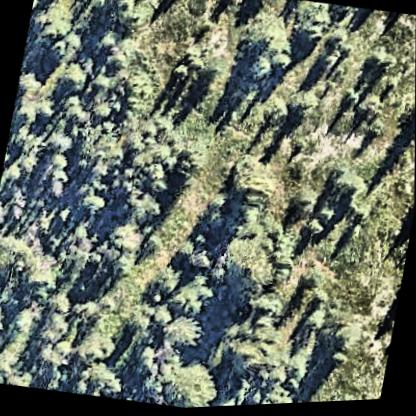tree-top: (241, 6, 297, 66), (163, 358, 226, 410), (75, 329, 122, 380), (226, 157, 271, 207), (170, 279, 214, 324), (78, 357, 125, 399), (162, 314, 207, 357), (127, 191, 169, 231), (109, 219, 148, 260), (315, 28, 351, 72), (328, 172, 367, 210), (36, 307, 73, 347), (40, 159, 77, 199), (54, 57, 91, 96), (110, 2, 149, 39), (285, 90, 320, 128), (44, 32, 82, 65), (320, 334, 353, 371), (361, 49, 395, 82), (294, 18, 327, 52), (9, 307, 41, 340), (195, 57, 226, 91), (243, 53, 274, 85), (250, 292, 282, 323), (44, 290, 76, 320), (300, 309, 330, 339), (77, 192, 108, 221), (42, 171, 70, 203), (44, 128, 74, 157), (186, 246, 213, 275), (149, 303, 176, 332), (87, 97, 114, 124), (16, 71, 40, 100), (94, 30, 119, 56), (88, 71, 114, 96), (270, 55, 295, 80), (325, 349, 350, 373), (400, 103, 415, 142), (301, 219, 324, 242), (339, 90, 361, 112), (0, 302, 12, 340), (170, 65, 192, 85), (56, 205, 75, 227), (332, 395, 368, 404), (0, 201, 10, 229), (217, 399, 240, 408), (163, 0, 189, 0)
